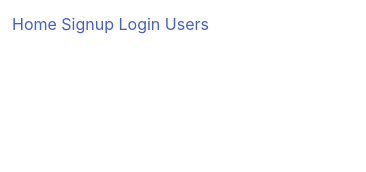
App component › in Routing context › displays <Login> after clicking route '/login'
Click the link with test id "login-link": (139, 24) [118,14,160,34]
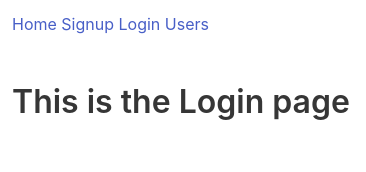
Now the element with test id "login-page" is shown, box [12,82,350,121]
